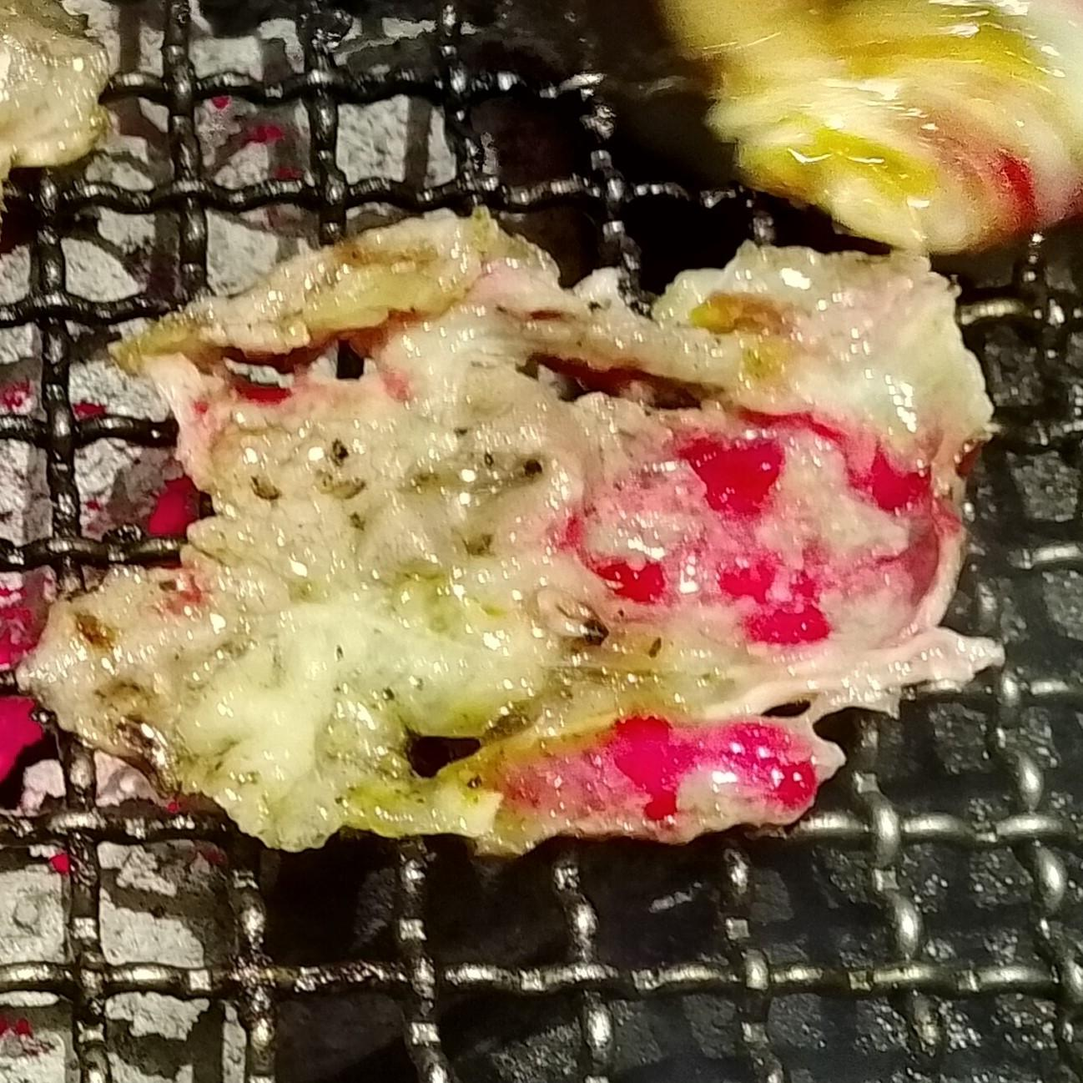Undercooked: (26, 221, 826, 849), (570, 409, 964, 671)
